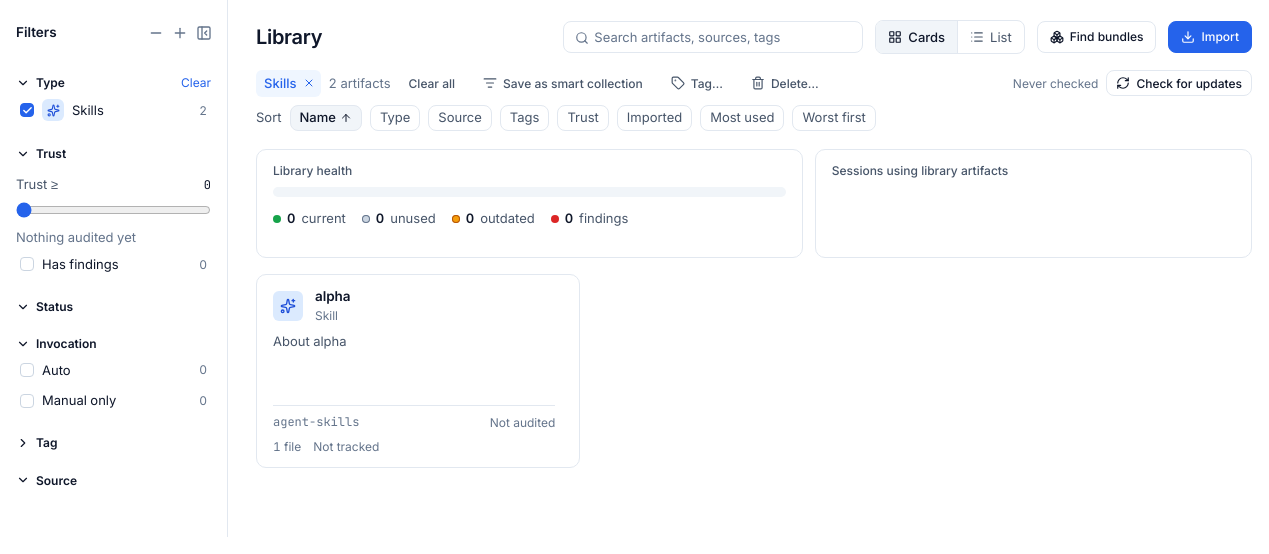
Test case: filter groups › shows the active count on a collapsed group
Click the button "Type" below "Filters". click: (40, 83)
box: [16,74,65,91]
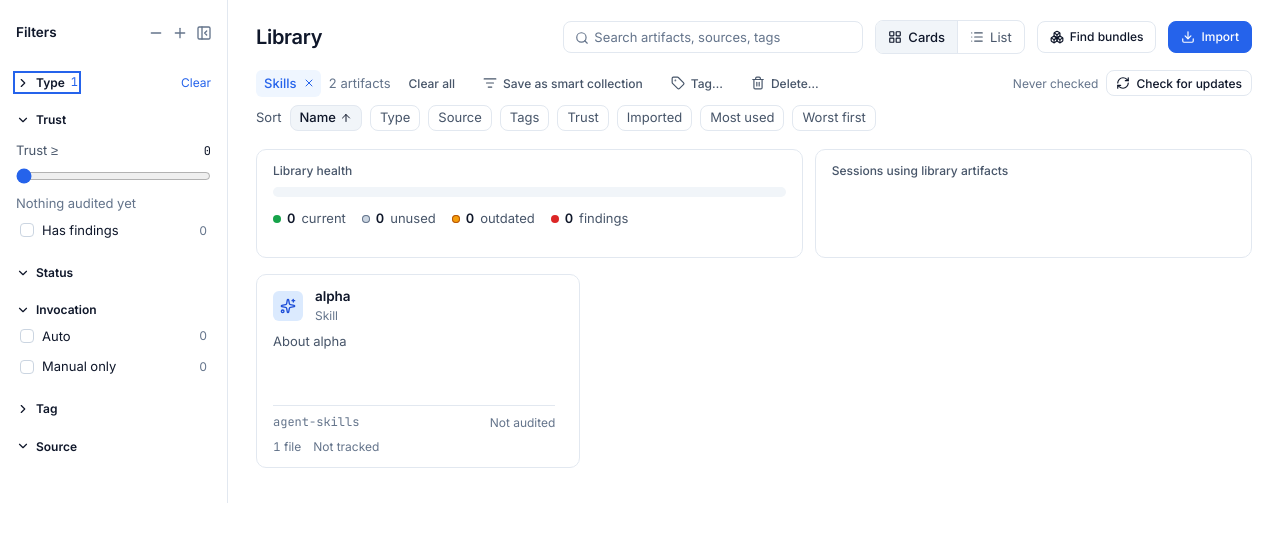
Result: the text named "1 active" is shown at [71,74,78,91]
